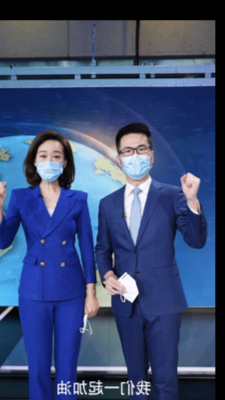with_mask: (119, 144, 152, 180), (34, 149, 63, 184)
